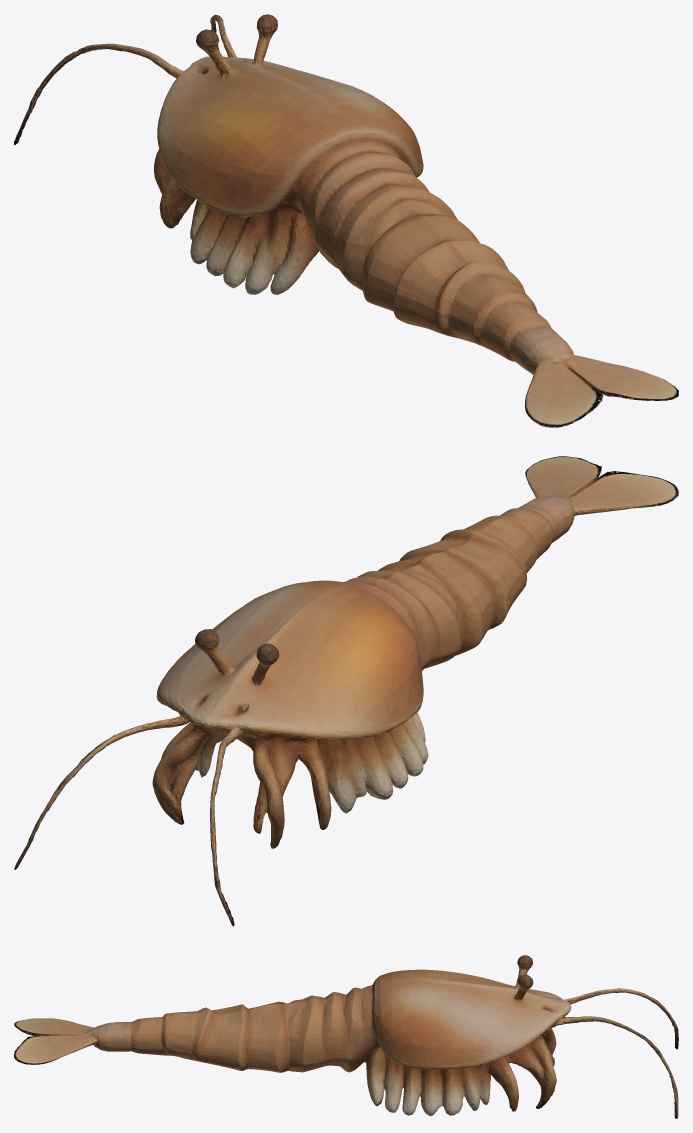
The picture shows the model from 3 angles, top to bottom: view 1: azimuth 30°, elevation 25°; view 2: azimuth 150°, elevation 25°; view 3: azimuth 270°, elevation 25°; orthographic projection. The views are drawn at different scales.
Visible parts, largest first — view 1: world; view 2: world; view 3: world.
Part boxes in pixels (bbox=[...]): world: bbox=[14, 14, 678, 427]; world: bbox=[14, 456, 678, 926]; world: bbox=[14, 955, 678, 1118].
Bounding box in the file's own units: 0.2543 × 0.211 × 0.9928.
1 material, 1 textured.
